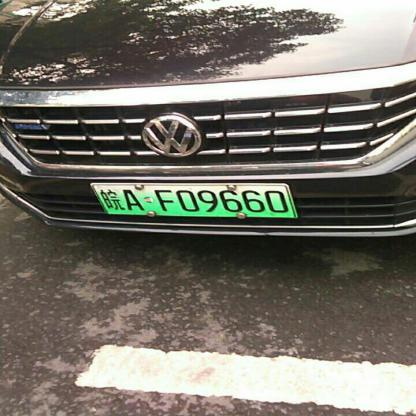lp: (92, 183, 297, 218)
